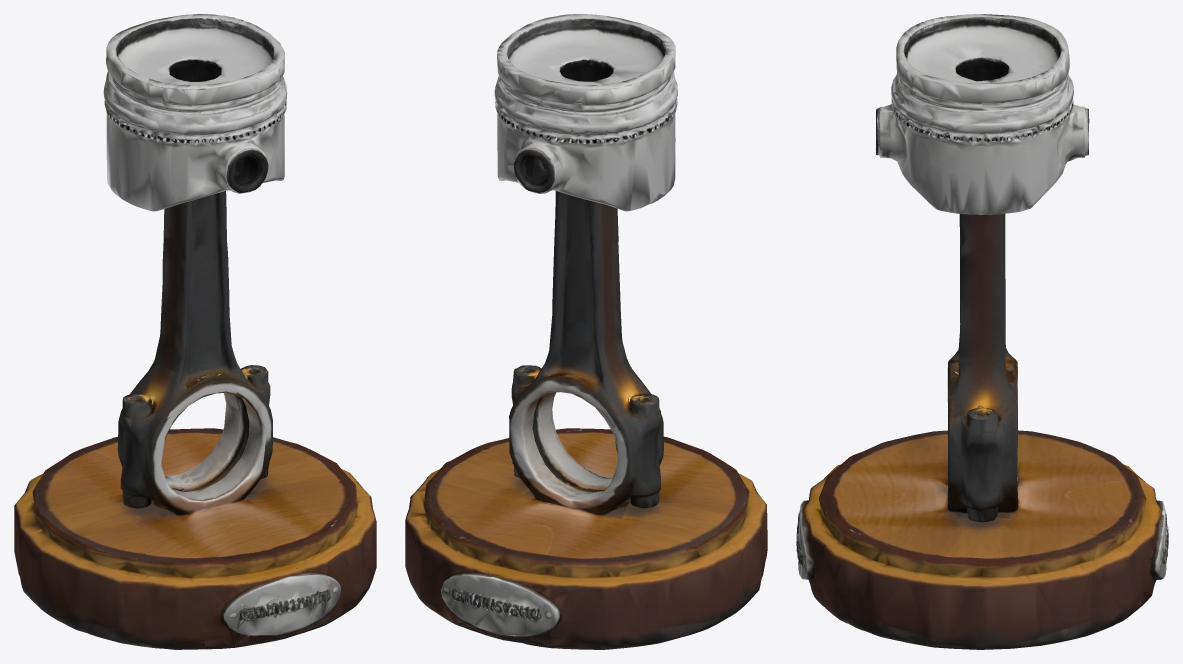
File: piston-lite.glb
3 renders of one model, left to right at view 1: azimuth 30°, elevation 25°; view 2: azimuth 150°, elevation 25°; view 3: azimuth 270°, elevation 25°, orthographic.
Bounding box in the file's own units: 1.18 × 1.9 × 1.22.
1 material, 1 textured.
